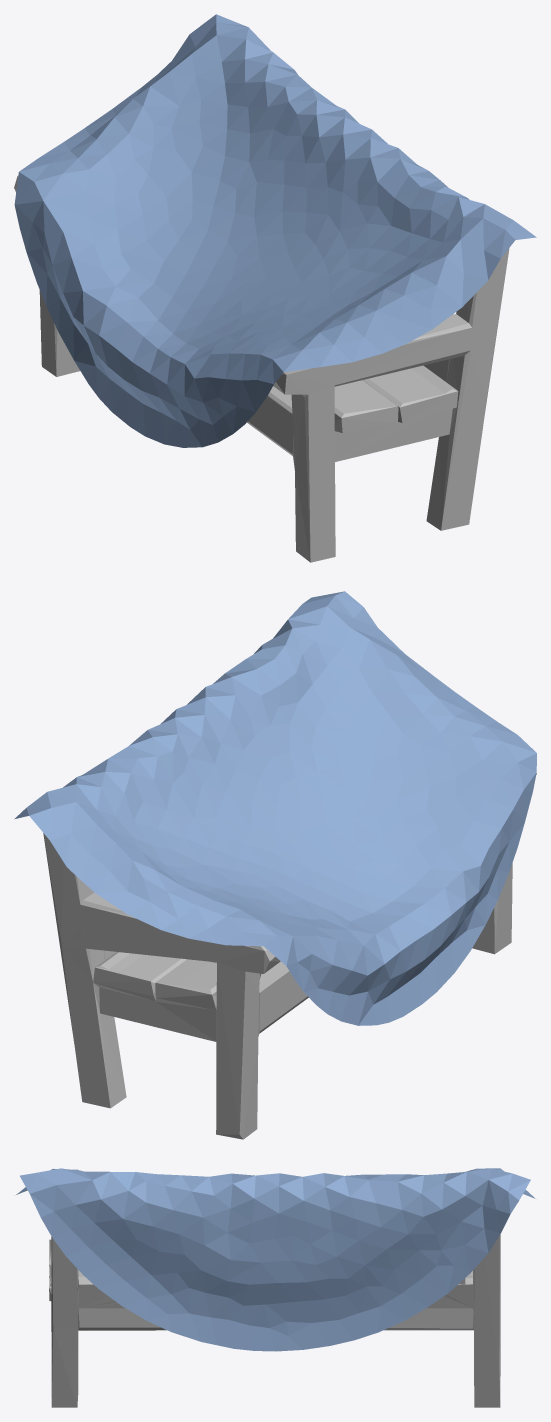
The model's file is level_0.glb.
The picture shows the model from 3 angles, top to bottom: view 1: azimuth 30°, elevation 25°; view 2: azimuth 150°, elevation 25°; view 3: azimuth 270°, elevation 25°; orthographic projection. The views are drawn at different scales.
Parts seen in each view (by area): view 1: world, object.obj; view 2: world, object.obj; view 3: world, object.obj.
Part boxes in pixels (x1,y1,x2,y2): world: (14,14,536,447); object.obj: (14,176,509,562); world: (14,591,536,1025); object.obj: (43,773,536,1139); world: (16,1168,535,1351); object.obj: (49,1234,500,1407).
Size of the model in its own units: 0.2754 by 0.2884 by 0.5525.
